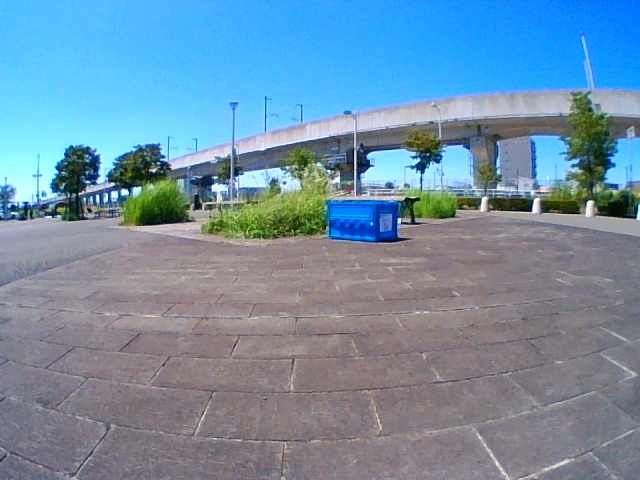blue_box: (329, 201, 396, 238)
tag: (380, 215, 391, 232)
